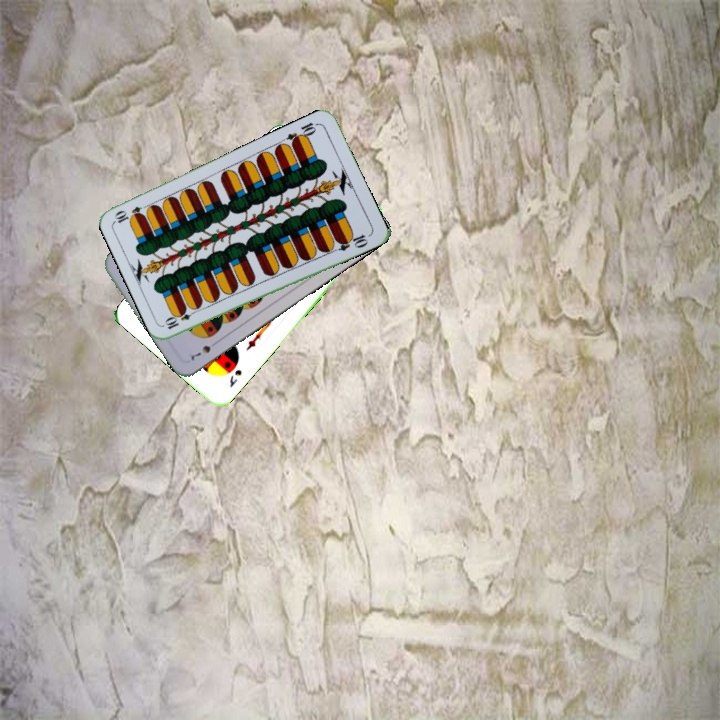E10: (282, 118, 321, 148), (161, 305, 200, 332)
S7: (187, 336, 221, 363)
SK: (225, 365, 244, 390)
